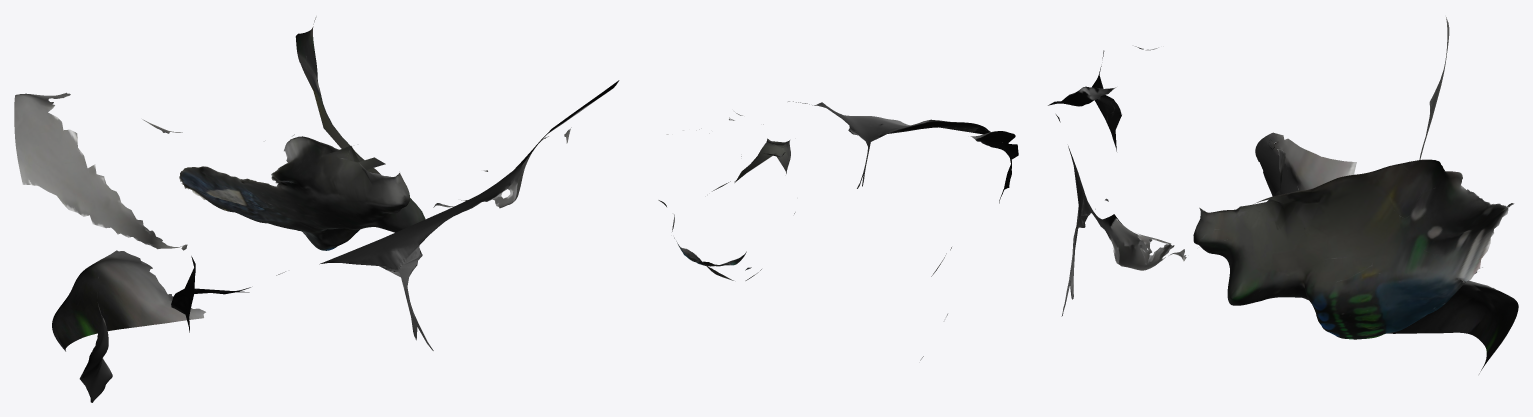
3 views of the same model, side by side, from view 1: azimuth 30°, elevation 25°; view 2: azimuth 150°, elevation 25°; view 3: azimuth 270°, elevation 25° (orthographic). The views are drawn at different scales.
Bounding box in the file's own units: 0.5163 × 0.3361 × 0.4582.
Materials: 1 (1 with a texture image).
